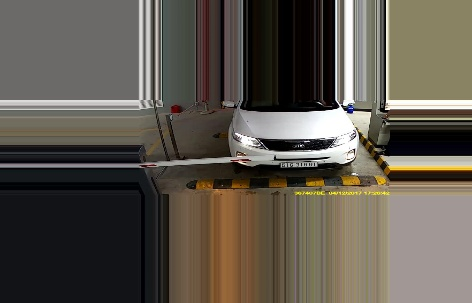plate: (279, 159, 316, 168)
